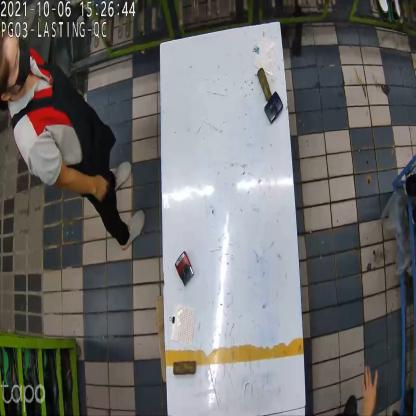stamp: (262, 90, 284, 124), (176, 247, 193, 281)
